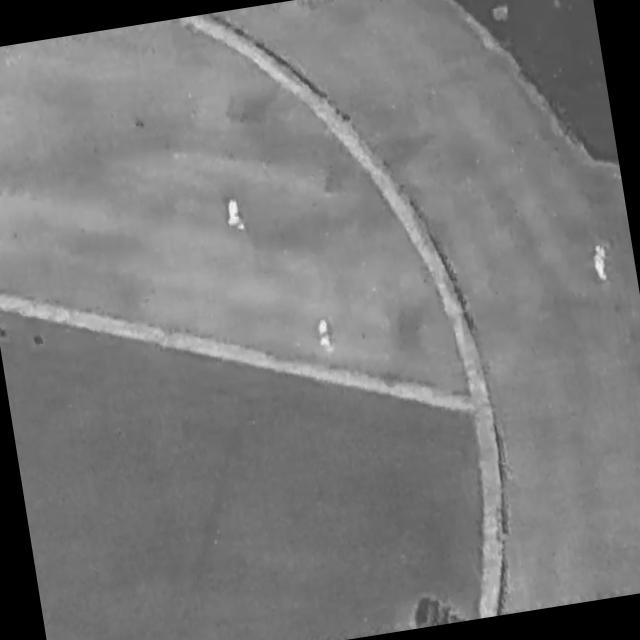person: (223, 196, 247, 235), (592, 242, 612, 284), (316, 317, 335, 353)
